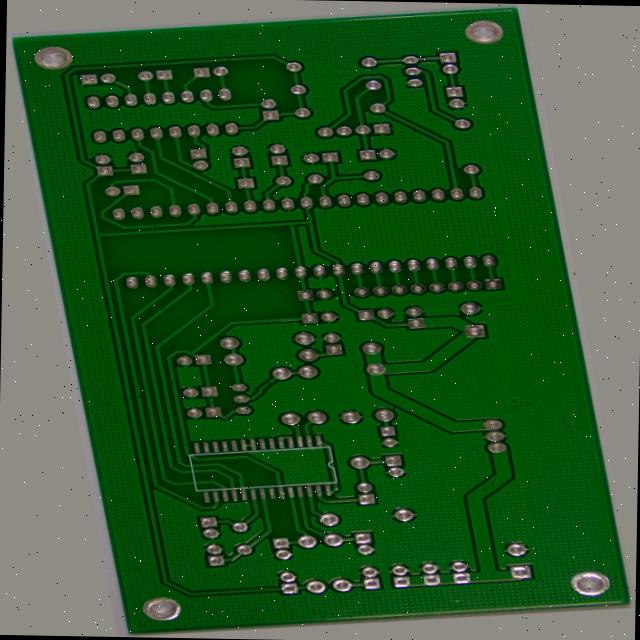mouse_bite: (234, 378, 250, 386), (381, 323, 396, 331), (325, 203, 338, 210)
